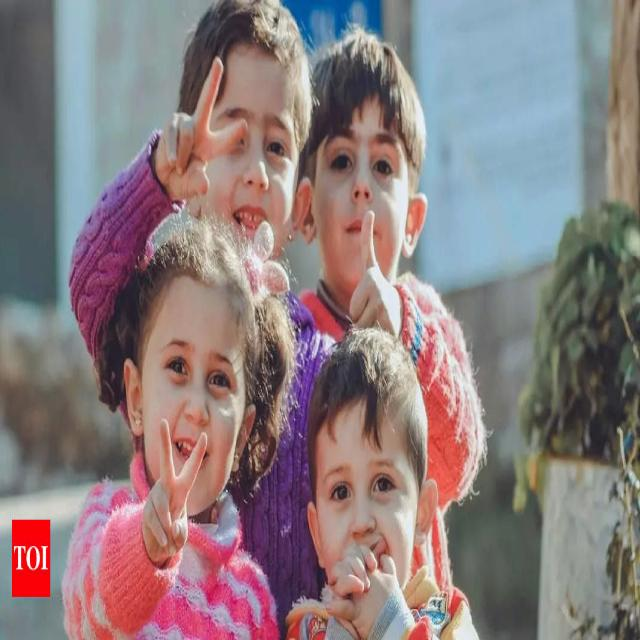child: (62, 220, 288, 640), (68, 2, 326, 354), (302, 28, 488, 514), (288, 327, 475, 640)
